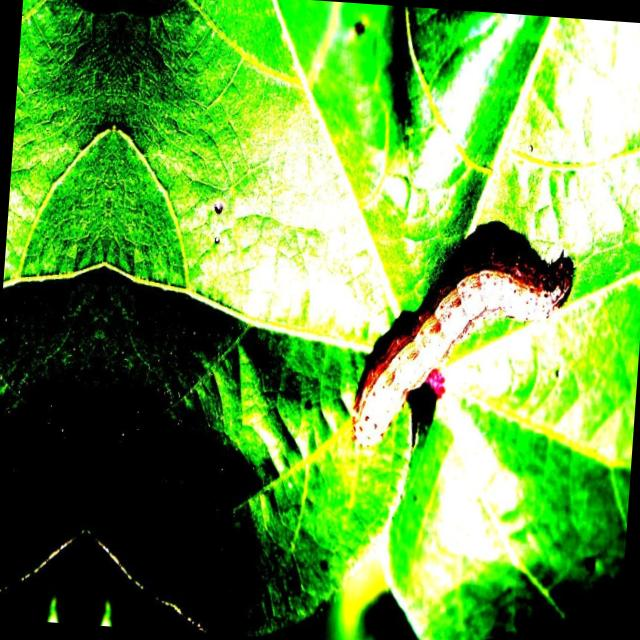Armyworm: (316, 163, 630, 481)
